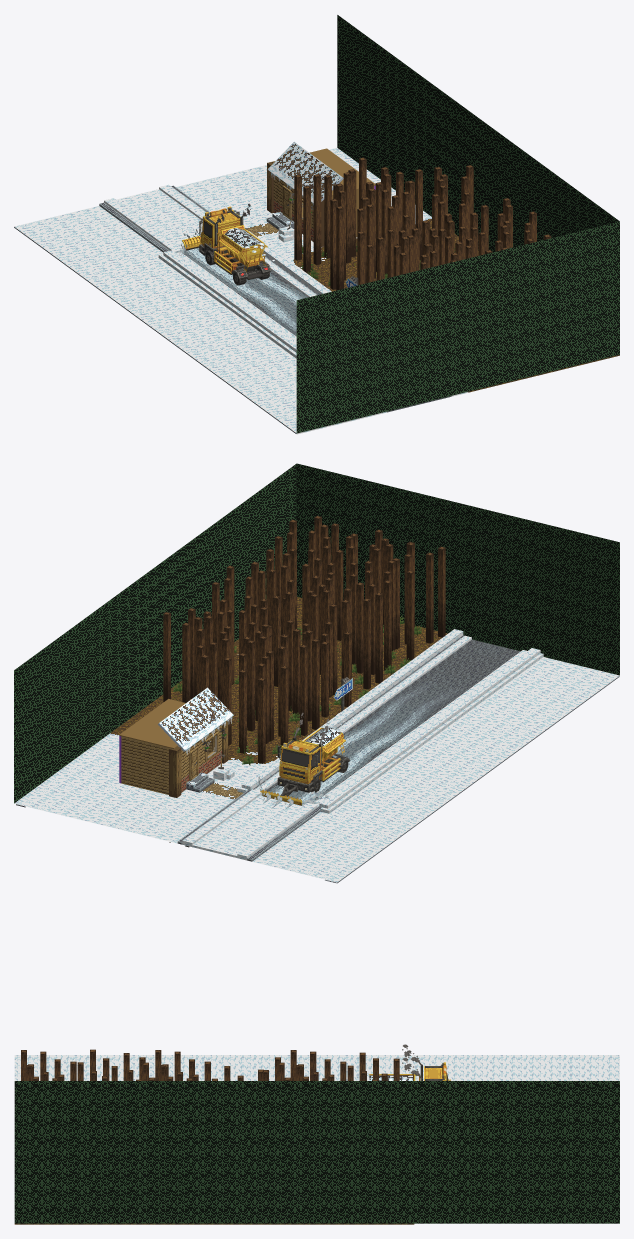
The model's file is snowplough.glb.
3 views of the same model, one above another, from view 1: azimuth 30°, elevation 25°; view 2: azimuth 150°, elevation 25°; view 3: azimuth 270°, elevation 25° (orthographic). The views are drawn at different scales.
Parts seen in each view (by area): view 1: cube (×21); view 2: cube (×37); view 3: cube (×2).
Boxes of the visible parts, x1,y1,x2,y2 form: cube (×21): (14, 15, 619, 434); cube (×37): (14, 463, 619, 883); cube (×2): (14, 1055, 619, 1224).
Bounding box in the file's own units: 20.62 × 8.19 × 31.29.
Materials: 6 (6 with a texture image).
